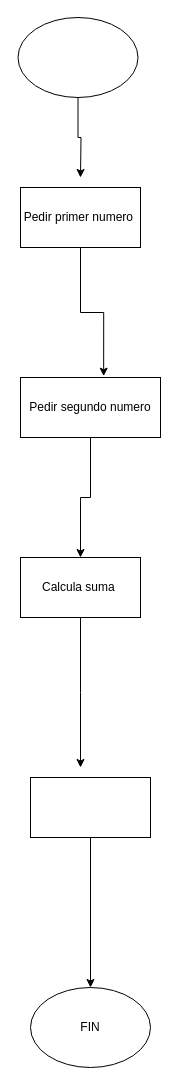
This 178x1085 diagram has some shape labels left out. Here are the shapes that lost their labels. From the top down, the centre of each, then its label:
At (77,57): "INICIO".
At (90,807): "Mostrar Resultado".
